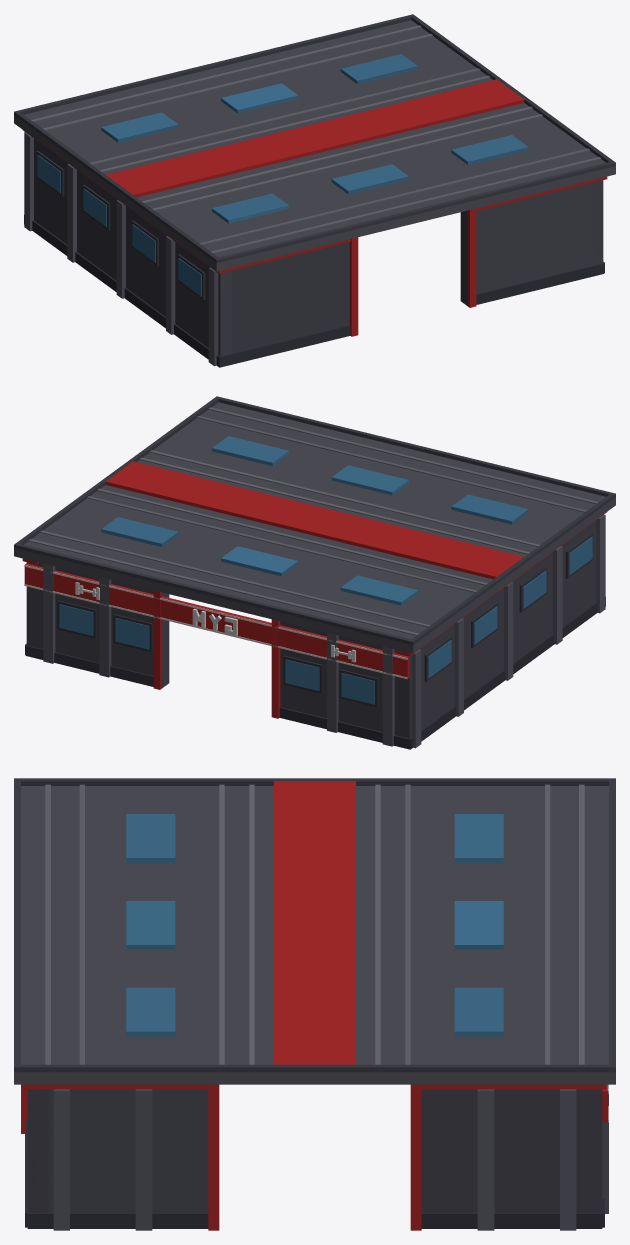
The model's file is Decor_GymHall_Hall.fbx.
3 renders of one model, top to bottom at view 1: azimuth 30°, elevation 25°; view 2: azimuth 150°, elevation 25°; view 3: azimuth 270°, elevation 25°, orthographic. The views are drawn at different scales.
Parts seen in each view (by area): view 1: Hall_Roof, Hall_Body, Hall_Glass; view 2: Hall_Roof, Hall_Body, Hall_Glass; view 3: Hall_Roof, Hall_Body.
Boxes of the visible parts, left/top/right/bottom form: Hall_Roof: left=14, top=14, right=615, bottom=271; Hall_Body: left=23, top=130, right=607, bottom=367; Hall_Glass: left=37, top=155, right=201, bottom=296; Hall_Roof: left=14, top=396, right=615, bottom=653; Hall_Body: left=22, top=512, right=606, bottom=749; Hall_Glass: left=59, top=537, right=592, bottom=704; Hall_Roof: left=14, top=778, right=615, bottom=1084; Hall_Body: left=21, top=1084, right=608, bottom=1230.
Size of the model in its own units: 50 by 13.4 by 44.
